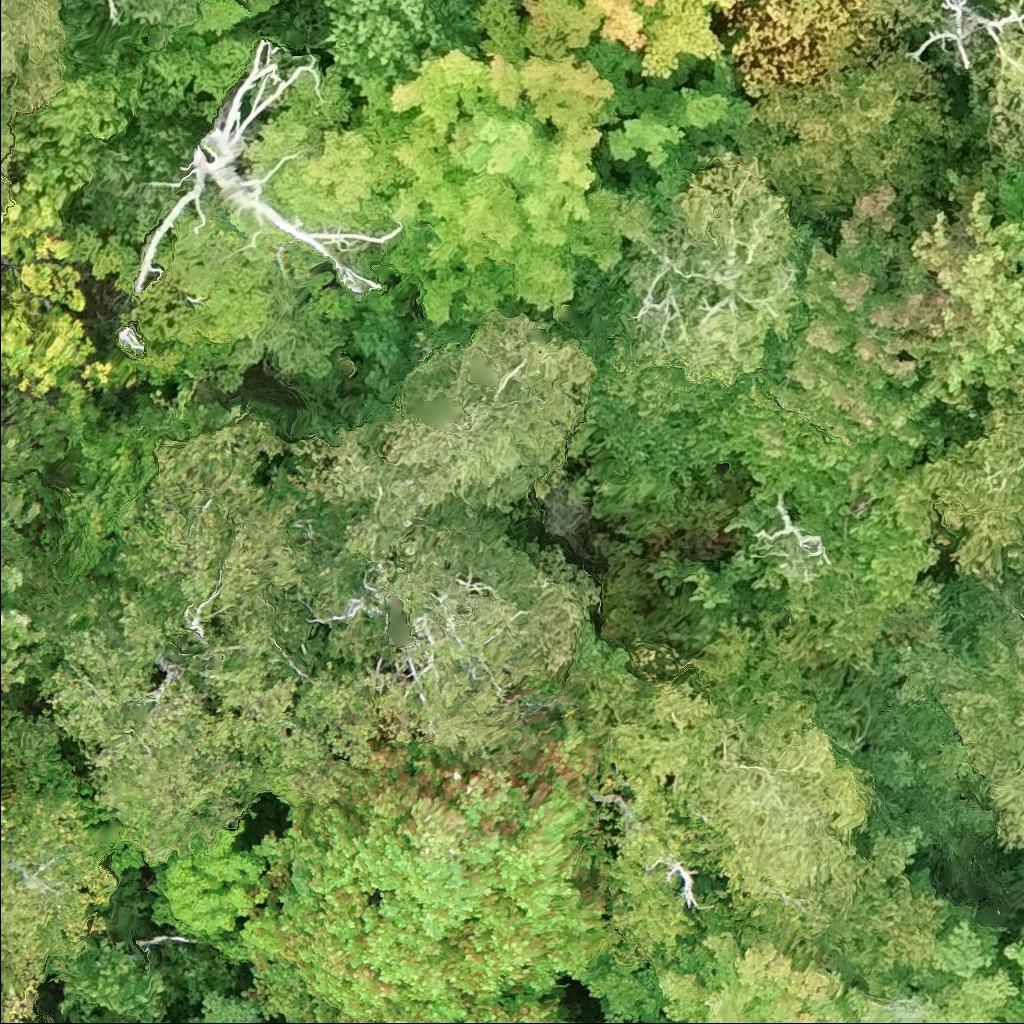crown: (20, 401, 431, 873), (247, 0, 658, 329), (314, 309, 605, 770), (214, 706, 622, 1023), (560, 612, 878, 963), (761, 182, 989, 448), (614, 138, 809, 391), (734, 30, 970, 219), (900, 191, 1023, 421), (645, 925, 897, 1023), (599, 55, 758, 207), (0, 788, 114, 996), (933, 625, 1023, 858), (921, 389, 1023, 586), (316, 0, 487, 106), (145, 821, 273, 937), (0, 421, 48, 694), (583, 0, 741, 82), (0, 692, 95, 825), (41, 938, 182, 1023), (0, 0, 67, 113), (929, 962, 1021, 1023), (0, 83, 25, 163), (1003, 932, 1023, 1023), (0, 978, 38, 1023), (1006, 547, 1023, 576), (0, 180, 11, 216)
